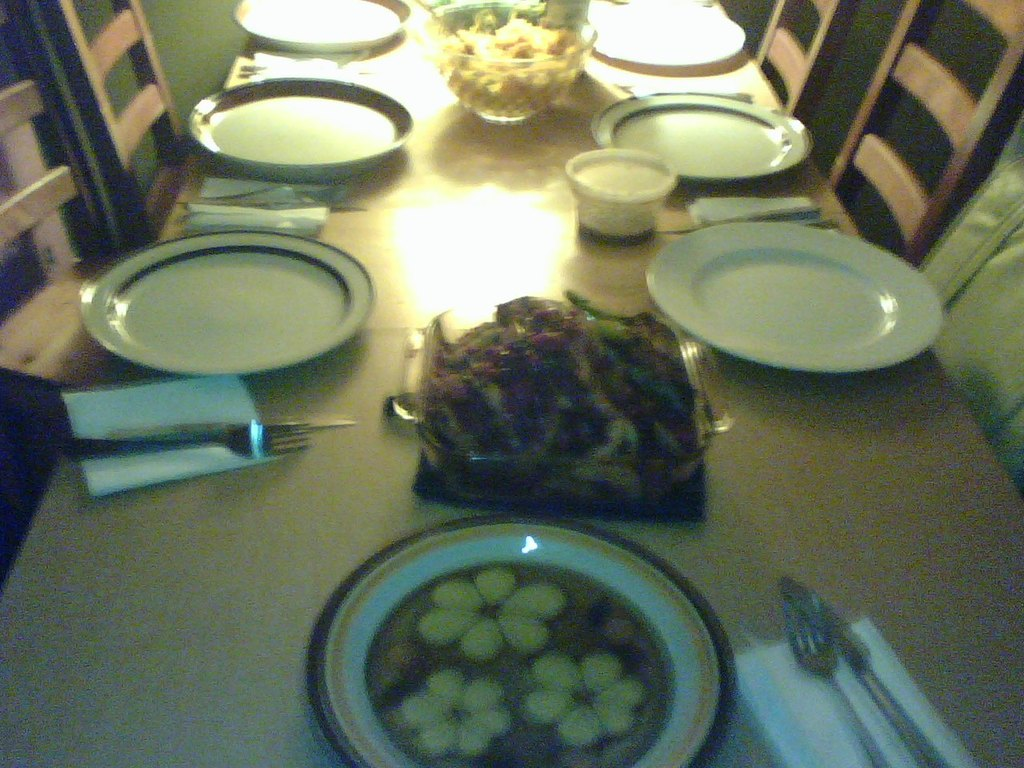plate: (304, 516, 739, 767), (185, 75, 413, 185)
